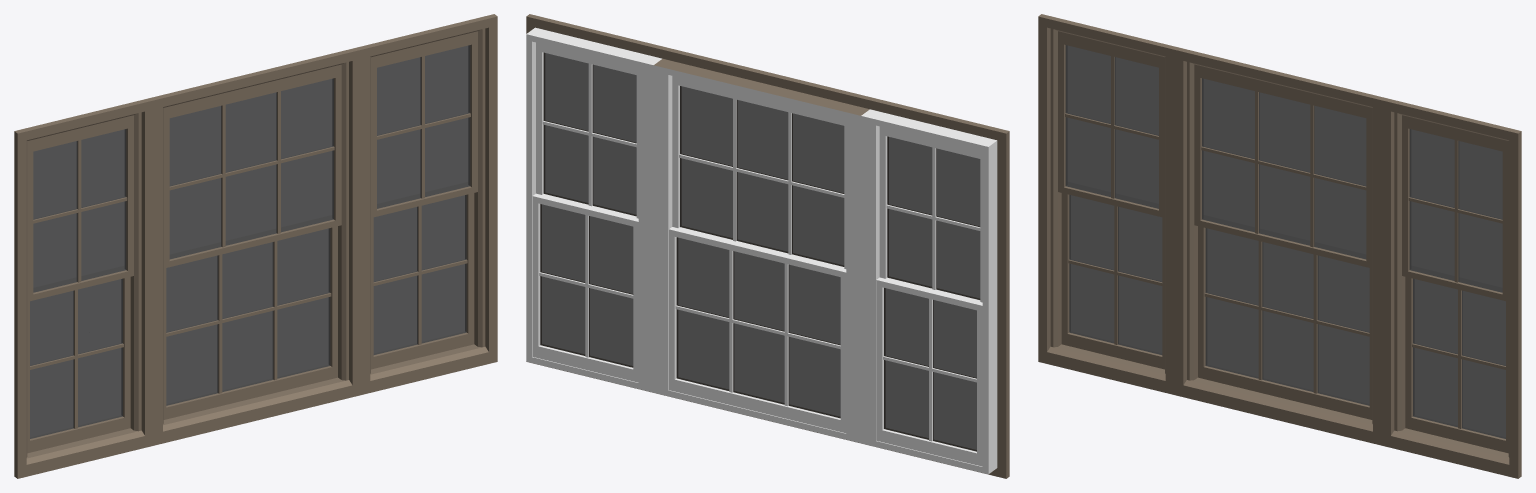
3 renders of one model, left to right at view 1: azimuth 30°, elevation 25°; view 2: azimuth 150°, elevation 25°; view 3: azimuth 330°, elevation 25°, orthographic.
Parts seen in each view (by area): view 1: Group_001; view 2: Group_001; view 3: Group_001.
Part boxes in pixels (left/top/right/bottom): Group_001: left=14, top=14, right=497, bottom=478; Group_001: left=526, top=14, right=1009, bottom=478; Group_001: left=1038, top=14, right=1521, bottom=478.
Size of the model in its own units: 79.38 by 54.57 by 3.55.
